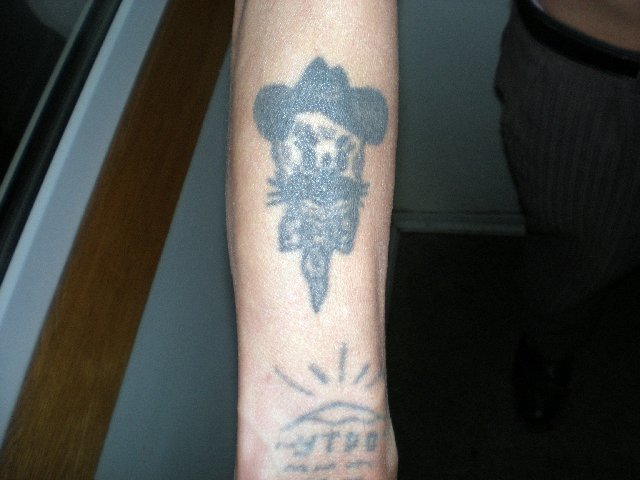tatu3_bukva: (290, 432, 384, 460)
tatu8_kot: (251, 51, 399, 316)
